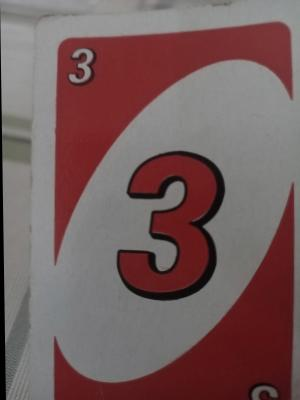num_3: (65, 40, 99, 94)
